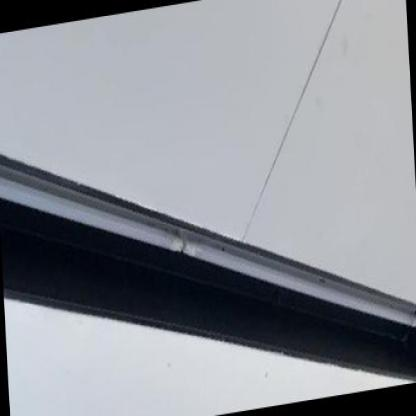light_off: (0, 35, 415, 415)
